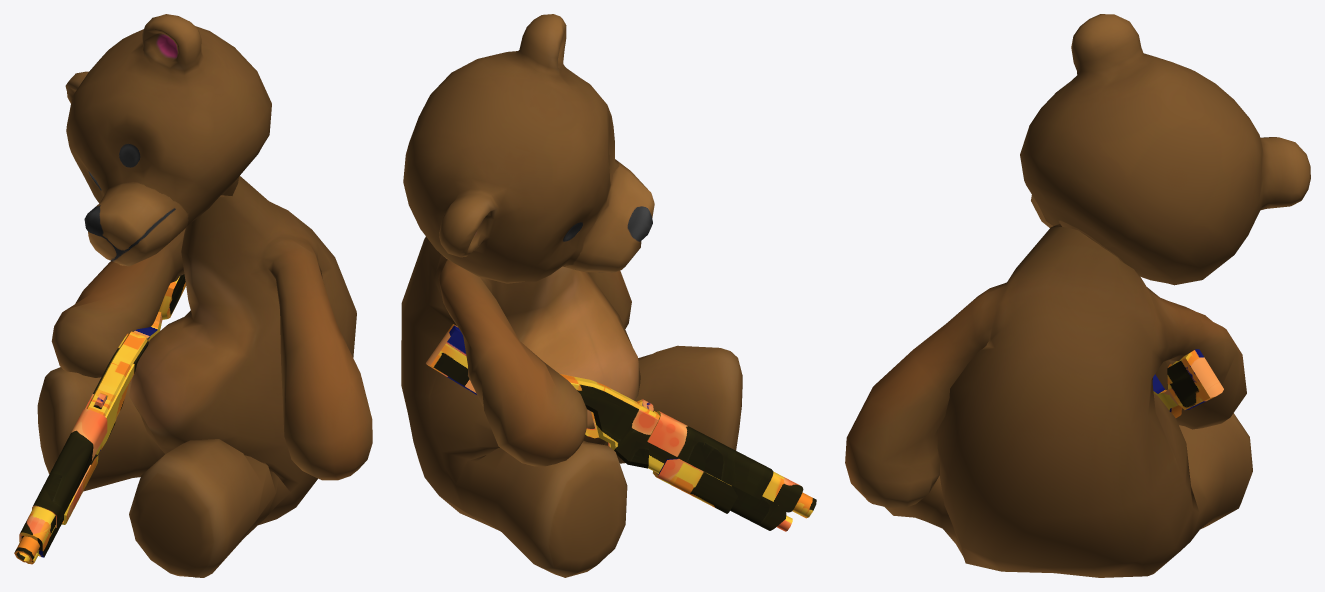
Rendered from Ursinho para menu 1.fbx.
The picture shows the model from 3 angles, left to right: view 1: azimuth 30°, elevation 25°; view 2: azimuth 150°, elevation 25°; view 3: azimuth 270°, elevation 25°; orthographic projection. The views are drawn at different scales.
Visible parts, largest first — view 1: Bear; view 2: Bear; view 3: Bear.
Boxes of the visible parts, left/top/right/bottom form: Bear: left=14, top=14, right=372, bottom=577; Bear: left=401, top=14, right=816, bottom=577; Bear: left=845, top=14, right=1310, bottom=577.
Bounding box in the file's own units: 108 × 142 × 111.
